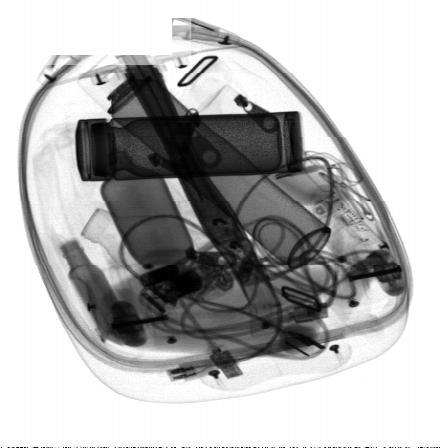Sprayer: (78, 52, 330, 269)
